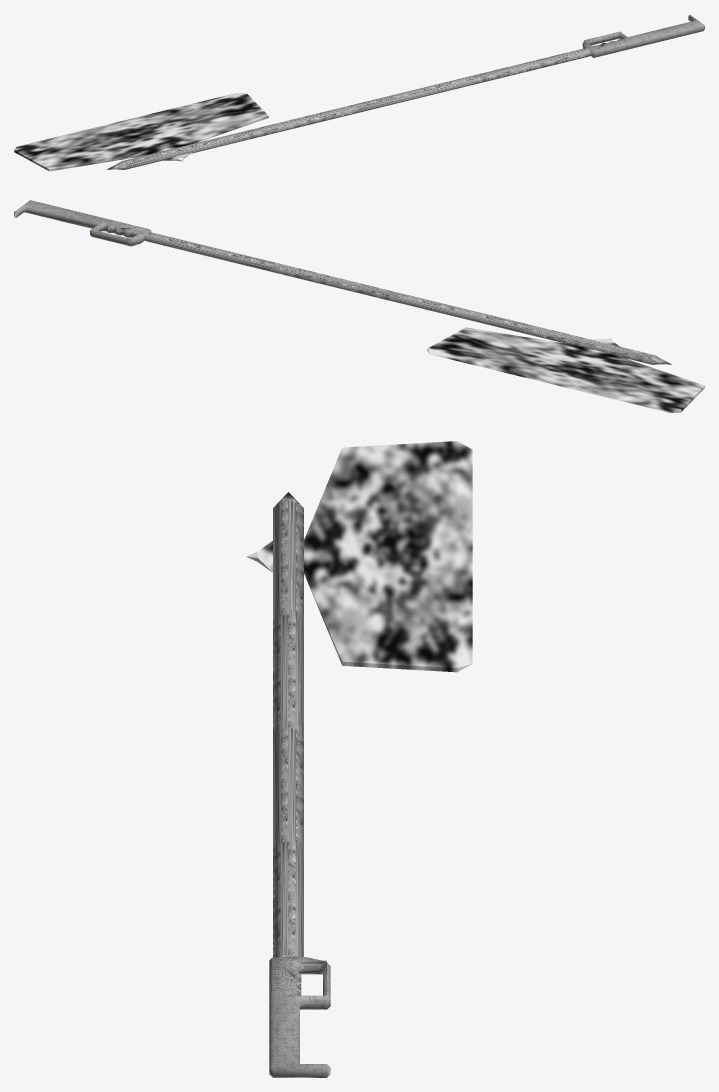
File: axe.fbx
3 views of the same model, one above another, from view 1: azimuth 30°, elevation 25°; view 2: azimuth 150°, elevation 25°; view 3: azimuth 270°, elevation 25° (orthographic). The views are drawn at different scales.
Visible parts, largest first — view 1: Axe; view 2: Axe; view 3: Axe.
Part boxes in pixels (x1,y1,x2,y2): Axe: (14, 15, 704, 171); Axe: (14, 200, 704, 412); Axe: (246, 441, 472, 1077).
Size of the model in its own units: 194 by 2 by 29.5.
